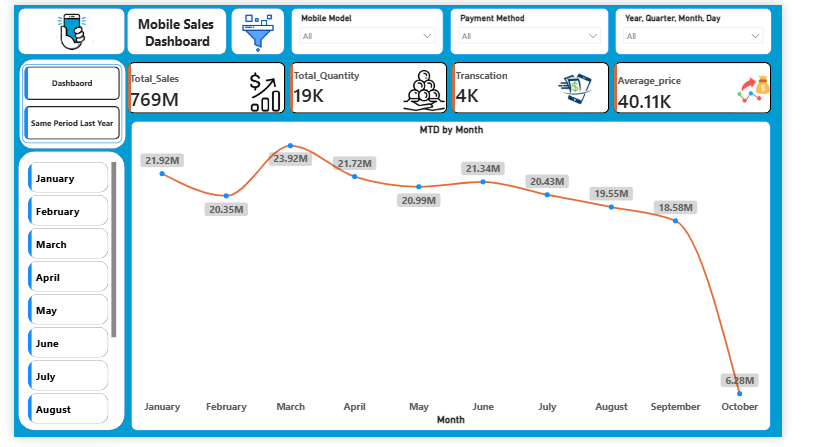

This screenshot's page, from the dashboard's own definition file:
{"tool":"powerbi","page":{"name":"MTD Report","canvas":[1280,720],"ordinal":1},"visuals":[{"type":"shape","box":[361.1,5.6,89.3,78],"z":0,"group":"g2"},{"type":"group","id":"g1","title":"Group 1","box":[7.1,5.7,178.6,83.6],"z":0},{"type":"shape","box":[7.1,5.7,178.6,77.7],"z":0,"group":"g1"},{"type":"image","box":[331.3,15,150.3,63.8],"z":1000,"group":"g2"},{"type":"shape","box":[8.5,89.3,178.6,150.3],"z":1000},{"type":"shape","box":[5.9,243.3,178.4,466],"z":1000,"group":"g4"},{"type":"image","box":[20.1,5.7,152.7,83.6],"z":1500,"group":"g1"},{"type":"cardVisual","fields":{"Data":["Mobile_sales_data.Total_Sales","Mobile_sales_data.Total_Quantity","Mobile_sales_data.Transcation","Mobile_sales_data.Average_price"]},"box":[175.8,79.4,1104.2,116.2],"z":2000},{"type":"slicer","fields":{"Values":["Mobile_sales_data.Mobile Model"]},"box":[462.1,5.7,253.7,78],"z":3000},{"type":"advancedSlicerVisual","fields":{"Values":["Custom_calendar.Date.Variation.Date Hierarchy.Month"]},"box":[17.8,256.1,157.8,446.8],"z":3000,"group":"g4"},{"type":"slicer","fields":{"Values":["Mobile_sales_data.Payment Method"]},"box":[727.2,4.3,265.1,78],"z":4000},{"type":"slicer","fields":{"Values":["Custom_calendar.Date.Variation.Date Hierarchy.Year","Custom_calendar.Date.Variation.Date Hierarchy.Quarter","Custom_calendar.Date.Variation.Date Hierarchy.Month","Custom_calendar.Date.Variation.Date Hierarchy.Day"]},"box":[1002.2,5.7,260.8,78],"z":5000},{"type":"group","id":"g2","title":"Group 3","box":[331.3,5.6,150.3,78],"z":6000},{"type":"group","id":"g3","title":"Group 4","box":[188.5,5.7,165.8,78],"z":7000},{"type":"shape","box":[188.5,5.7,165.8,78],"z":8000,"group":"g3"},{"type":"lineChart","fields":{"Y":["Mobile_sales_data.MTD"],"Category":["Custom_calendar.Date.Variation.Date Hierarchy.Year","Custom_calendar.Date.Variation.Date Hierarchy.Quarter","Custom_calendar.Date.Variation.Date Hierarchy.Month","Custom_calendar.Date.Variation.Date Hierarchy.Day"]},"box":[194.7,193.2,1066.2,516.1],"z":8000},{"type":"textbox","box":[193.1,12.8,158.2,67.3],"z":9000,"group":"g3"},{"type":"group","id":"g4","title":"Group 2","box":[5.9,243.3,178.4,466],"z":9000},{"type":"pageNavigator","box":[12.8,97.8,167.3,131.8],"z":9001}]}

Visuals, with their boxes on the page's 1280x720 design canvas (x1, y1, x2, y2). These are canvas units, not pixel positions in the 838x447 screenshot, which may show the page scaled, cropped or inside an application window:
shape: 361,6,450,84
"Group 1" group: 7,6,186,89
shape: 7,6,186,83
image: 331,15,482,79
shape: 8,89,187,240
shape: 6,243,184,709
image: 20,6,173,89
cardVisual - Mobile_sales_data.Total_Sales x Mobile_sales_data.Total_Quantity: 176,79,1280,196
slicer - Mobile_sales_data.Mobile Model: 462,6,716,84
advancedSlicerVisual - Custom_calendar.Date.Variation.Date Hierarchy.Month: 18,256,176,703
slicer - Mobile_sales_data.Payment Method: 727,4,992,82
slicer - Custom_calendar.Date.Variation.Date Hierarchy.Year x Custom_calendar.Date.Variation.Date Hierarchy.Quarter: 1002,6,1263,84
"Group 3" group: 331,6,482,84
"Group 4" group: 188,6,354,84
shape: 188,6,354,84
lineChart - Mobile_sales_data.MTD x Custom_calendar.Date.Variation.Date Hierarchy.Year: 195,193,1261,709
textbox: 193,13,351,80
"Group 2" group: 6,243,184,709
pageNavigator: 13,98,180,230
